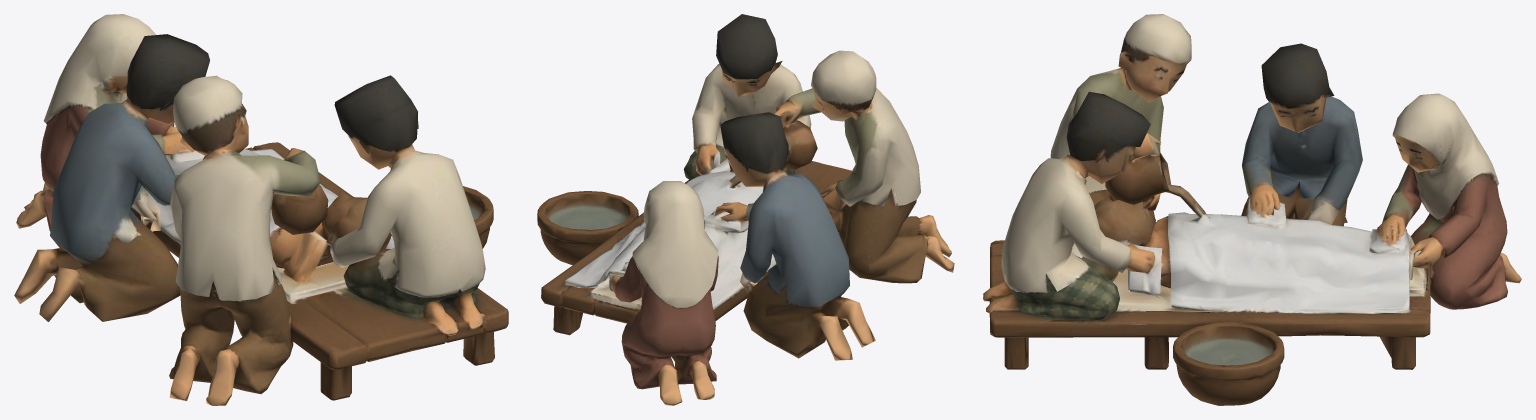
File: Tausug1-512(10k).glb
The picture shows the model from 3 angles, left to right: view 1: azimuth 30°, elevation 25°; view 2: azimuth 150°, elevation 25°; view 3: azimuth 270°, elevation 25°; orthographic projection. The views are drawn at different scales.
Visible parts, largest first — view 1: tripo_node_3578fc3d-410a-40f0-8b37-68cbe1eeffa3; view 2: tripo_node_3578fc3d-410a-40f0-8b37-68cbe1eeffa3; view 3: tripo_node_3578fc3d-410a-40f0-8b37-68cbe1eeffa3.
Part boxes in pixels (x1,y1,x2,y2): tripo_node_3578fc3d-410a-40f0-8b37-68cbe1eeffa3: (14,14,508,405); tripo_node_3578fc3d-410a-40f0-8b37-68cbe1eeffa3: (537,14,954,405); tripo_node_3578fc3d-410a-40f0-8b37-68cbe1eeffa3: (983,14,1521,405).
Size of the model in its own units: 0.8212 by 0.5187 by 0.98.
1 material, 1 textured.
